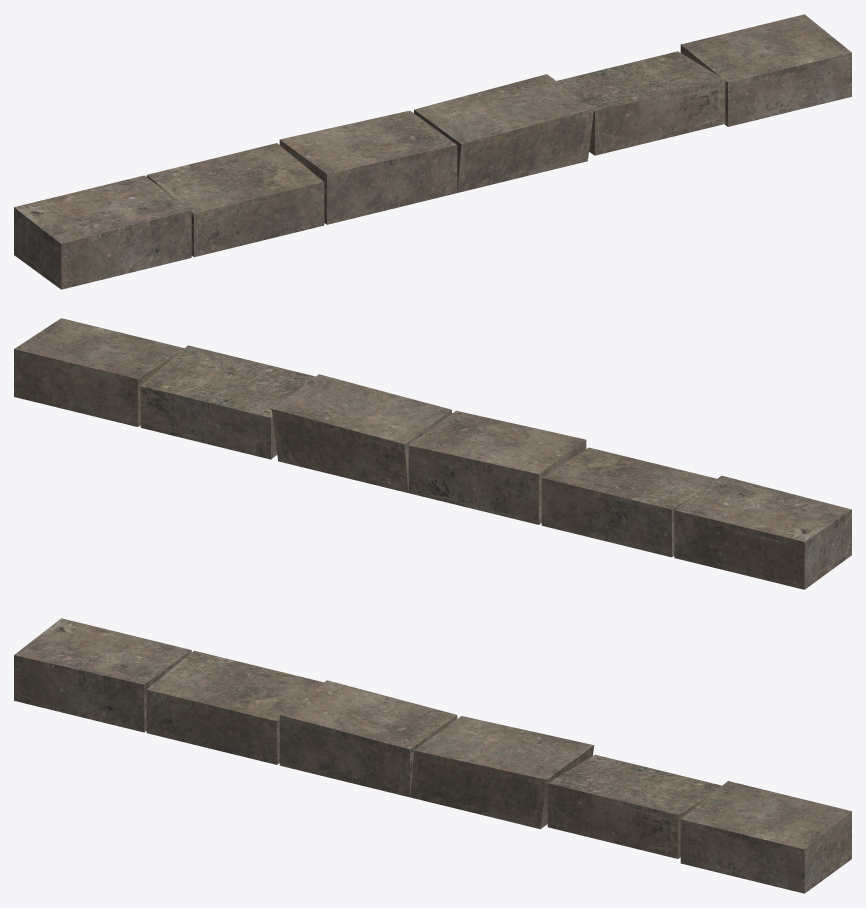
Rendered from SM_StoneBorder02.FBX.
3 renders of one model, top to bottom at view 1: azimuth 30°, elevation 25°; view 2: azimuth 150°, elevation 25°; view 3: azimuth 330°, elevation 25°, orthographic.
Visible parts, largest first — view 1: SM_StoneBorder02; view 2: SM_StoneBorder02; view 3: SM_StoneBorder02.
Part boxes in pixels (x1=…): SM_StoneBorder02: x1=14, y1=14, x2=851, y2=289; SM_StoneBorder02: x1=14, y1=318, x2=851, y2=589; SM_StoneBorder02: x1=14, y1=618, x2=851, y2=893.
Bounding box in the file's own units: 300 × 31.1 × 18.48.
